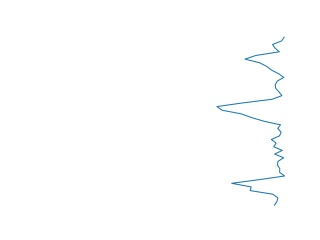underwaterNaturalLevee: (213, 36, 289, 206)
